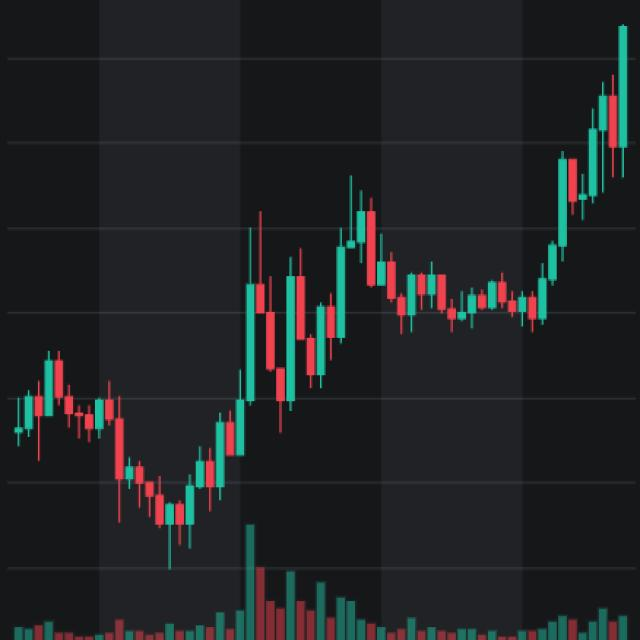Channel-up: (99, 5, 640, 588)
